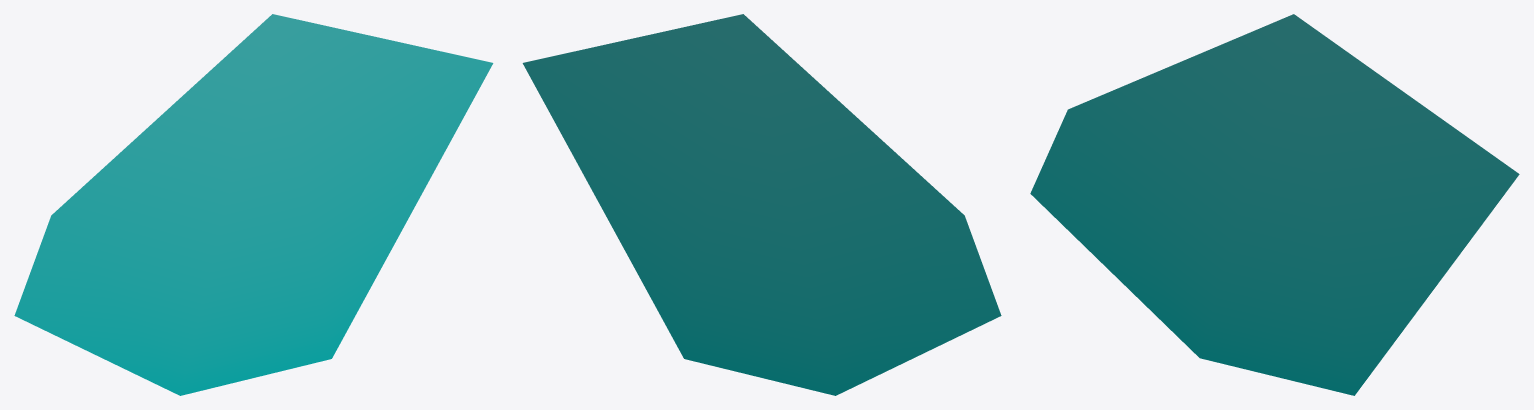
File: xefmcgrqx_VarF_LOD3.fbx
The picture shows the model from 3 angles, left to right: view 1: azimuth 30°, elevation 25°; view 2: azimuth 150°, elevation 25°; view 3: azimuth 330°, elevation 25°; orthographic projection. The views are drawn at different scales.
Visible parts, largest first — view 1: _5o3z_VarF_LOD6; view 2: _5o3z_VarF_LOD6; view 3: _5o3z_VarF_LOD6.
Part boxes in pixels (<box>): _5o3z_VarF_LOD6: <box>14,14,493,395</box>; _5o3z_VarF_LOD6: <box>522,14,1001,395</box>; _5o3z_VarF_LOD6: <box>1030,14,1519,395</box>.
Bounding box in the file's own units: 56.83 × 40.75 × 0.
